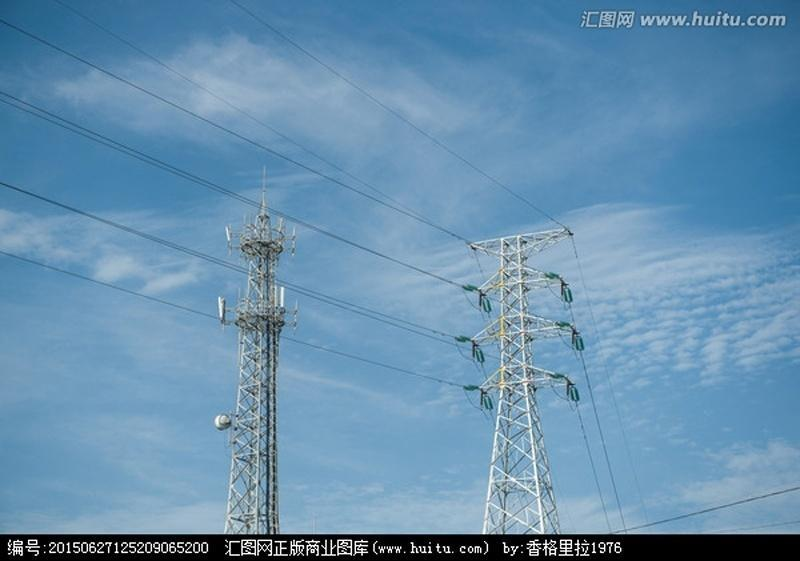power_tower: (454, 226, 585, 535)
